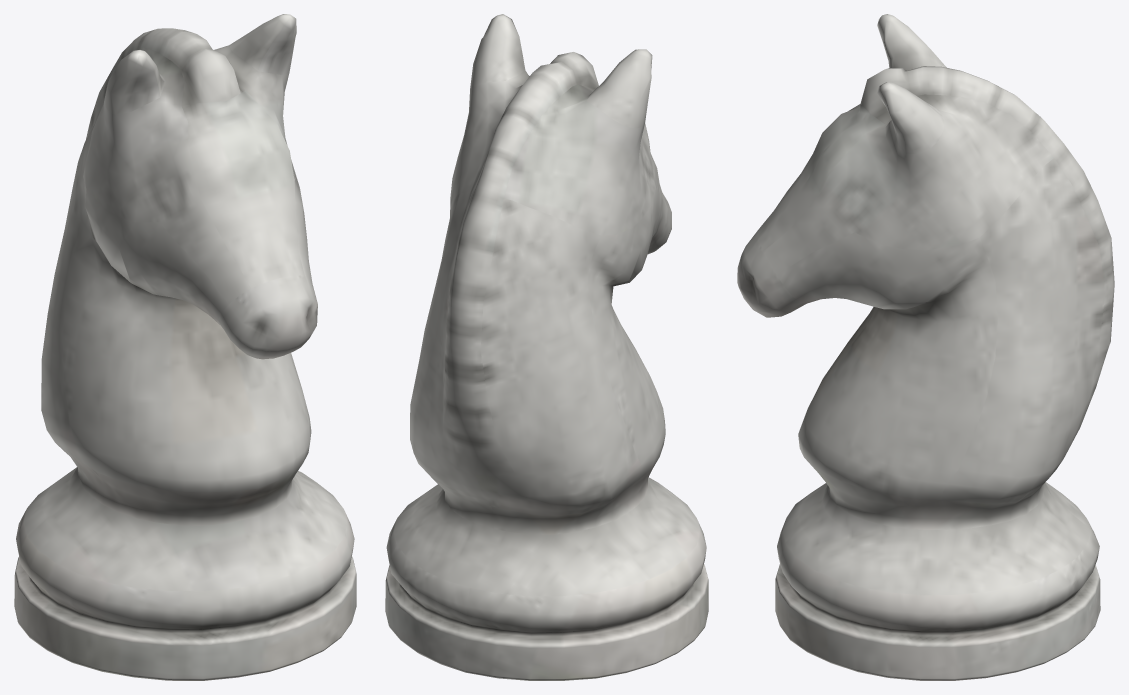
The model's file is knight_white.glb.
3 renders of one model, left to right at view 1: azimuth 30°, elevation 25°; view 2: azimuth 150°, elevation 25°; view 3: azimuth 270°, elevation 25°, orthographic. The views are drawn at different scales.
Visible parts, largest first — view 1: piece_knight_white_01; view 2: piece_knight_white_01; view 3: piece_knight_white_01.
Boxes of the visible parts, bbox=[...] form: piece_knight_white_01: bbox=[14, 14, 356, 680]; piece_knight_white_01: bbox=[385, 14, 708, 680]; piece_knight_white_01: bbox=[737, 14, 1114, 680].
Size of the model in its own units: 0.0388 by 0.075 by 0.0454.
Materials: 1 (1 with a texture image).
